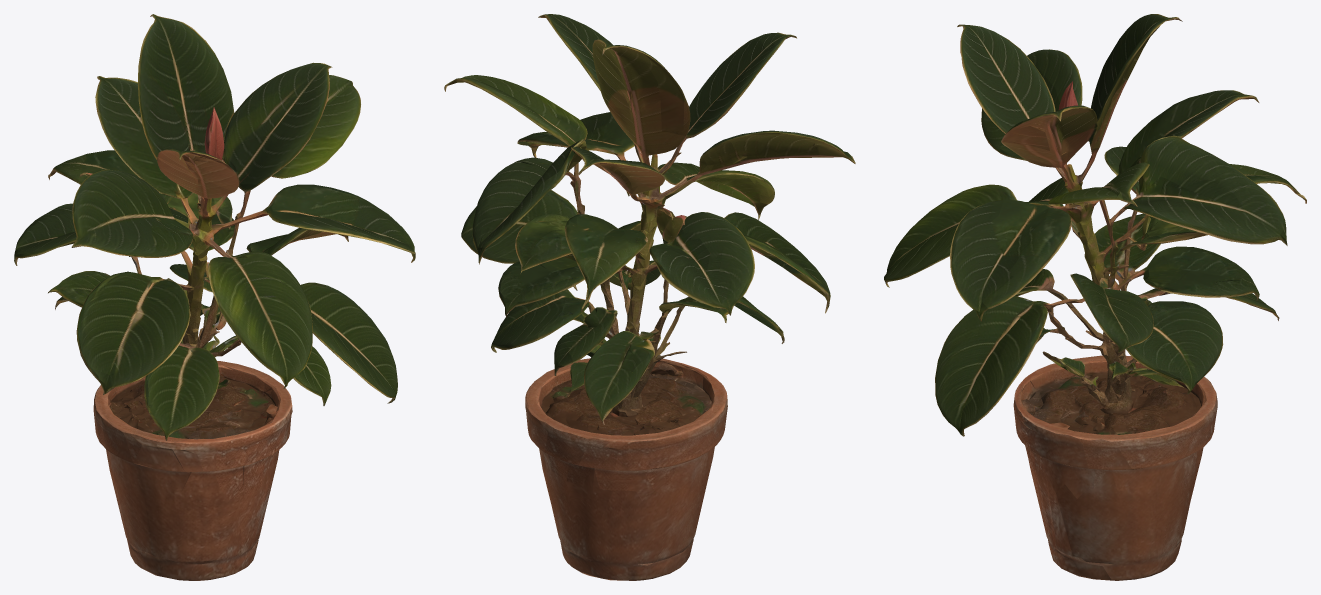
Rendered from plant.glb.
3 renders of one model, left to right at view 1: azimuth 30°, elevation 25°; view 2: azimuth 150°, elevation 25°; view 3: azimuth 270°, elevation 25°, orthographic. The views are drawn at different scales.
Parts seen in each view (by area): view 1: Mesh_0; view 2: Mesh_0; view 3: Mesh_0.
Part boxes in pixels (box(x1,y1,x2,y2)): Mesh_0: box(14, 14, 415, 580); Mesh_0: box(444, 14, 855, 580); Mesh_0: box(884, 14, 1306, 580).
Size of the model in its own units: 1.3 by 1.9 by 1.36.
1 material, 1 textured.
